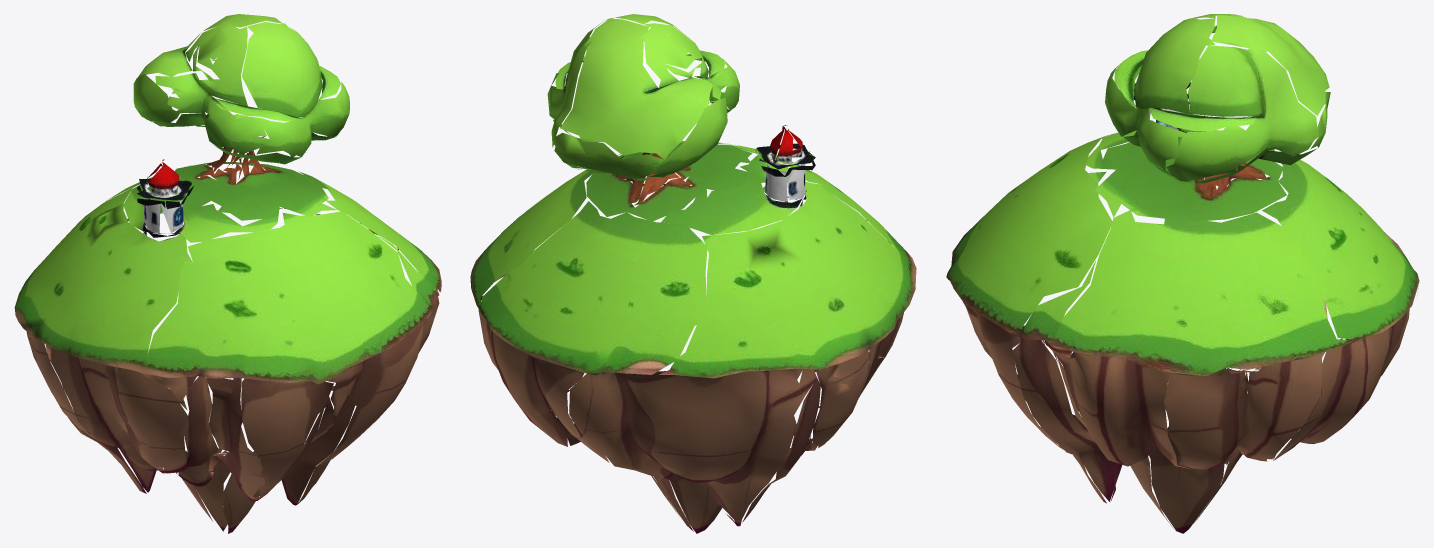
The model's file is liman_ada.glb.
3 renders of one model, left to right at view 1: azimuth 30°, elevation 25°; view 2: azimuth 150°, elevation 25°; view 3: azimuth 270°, elevation 25°, orthographic. The views are drawn at different scales.
Parts seen in each view (by area): view 1: geometry_0; view 2: geometry_0; view 3: geometry_0.
Part boxes in pixels (x1,y1,x2,y2): geometry_0: [14, 14, 441, 533]; geometry_0: [470, 14, 916, 533]; geometry_0: [946, 14, 1419, 533].
Bounding box in the file's own units: 0.7947 × 0.9988 × 0.8027.
1 material, 1 textured.
